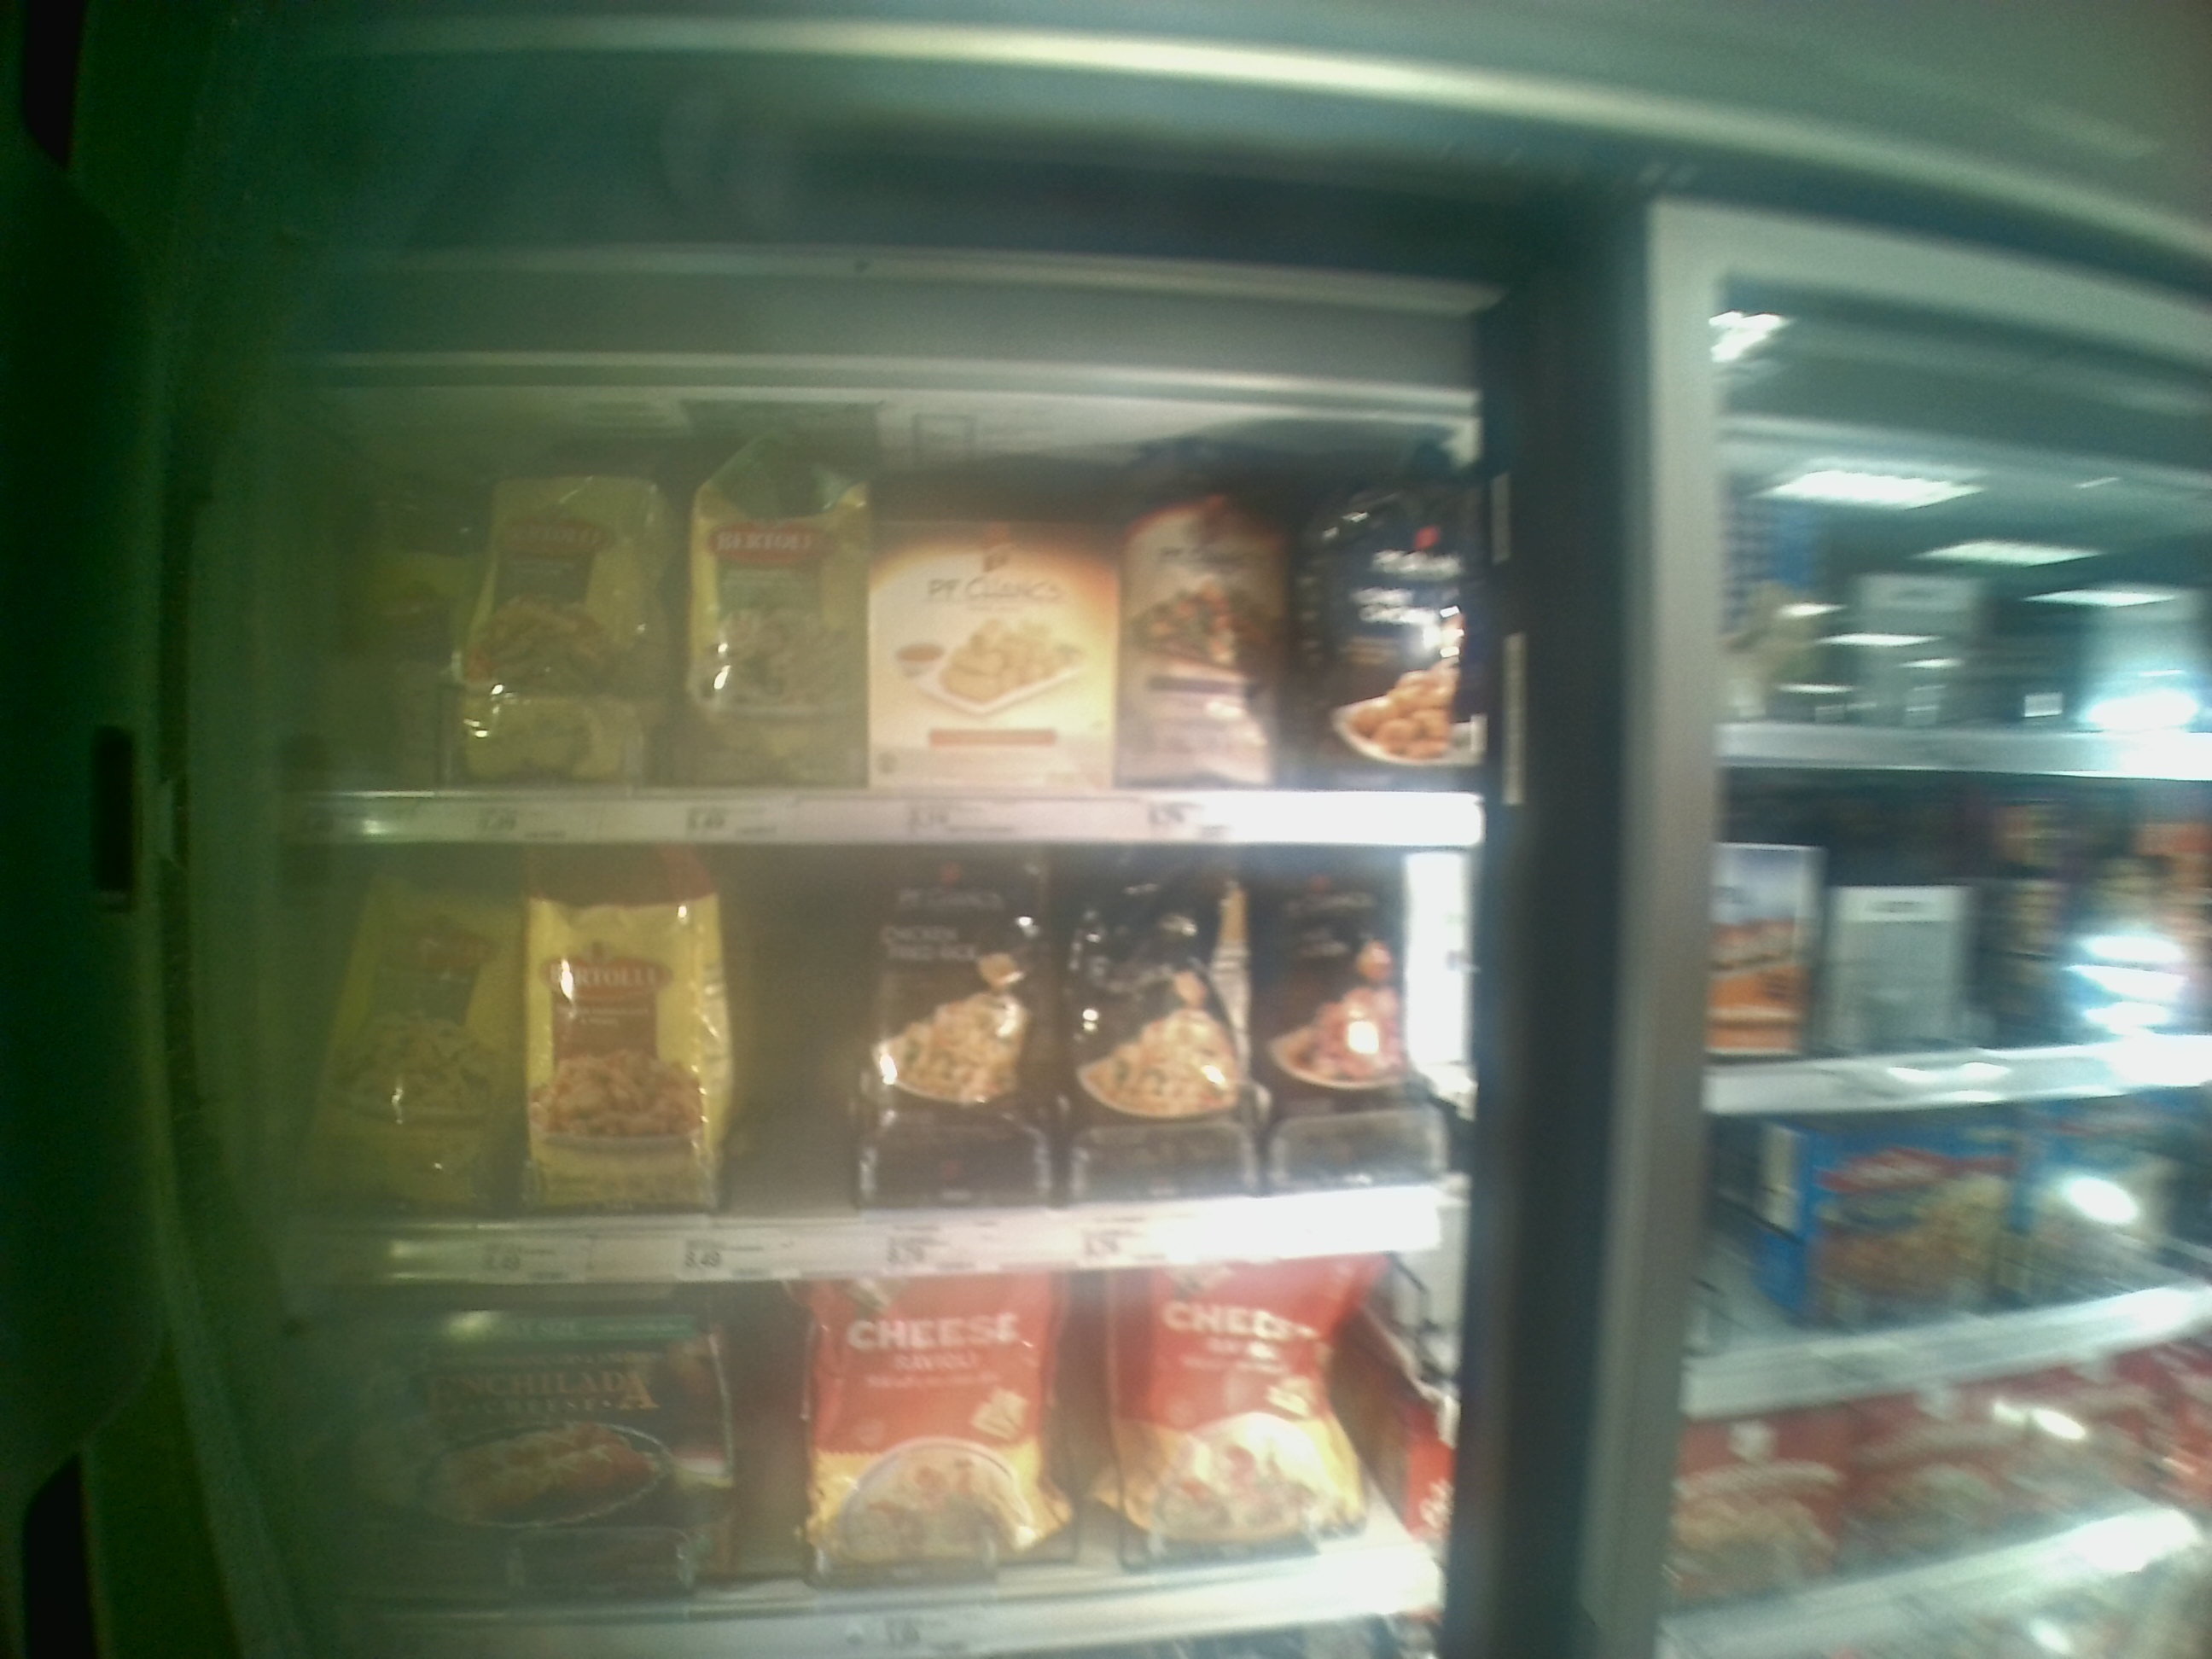frozen-food-shelf: (254, 410, 1475, 847), (270, 849, 1446, 1277)
